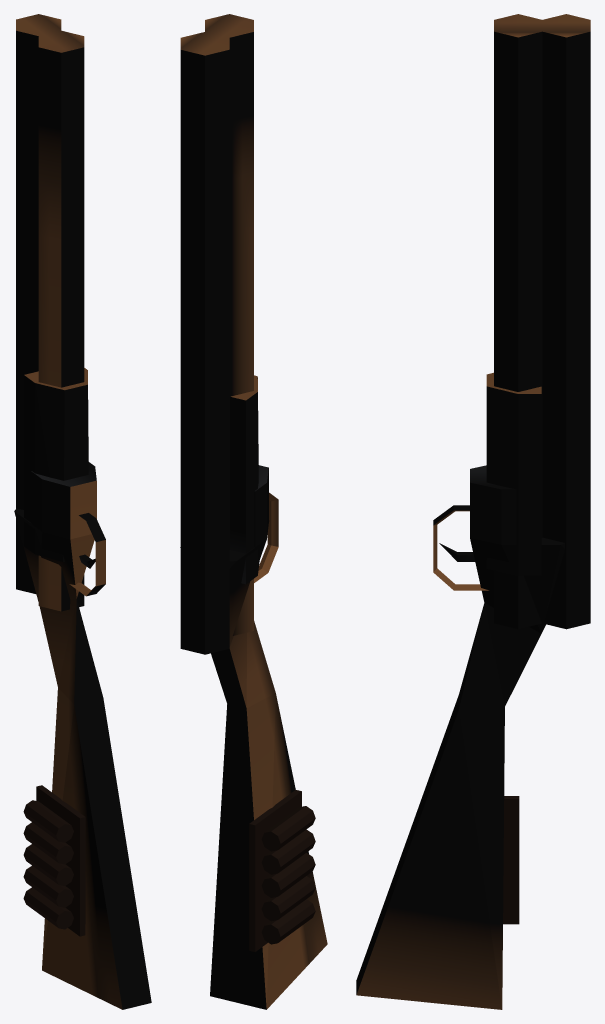
The model's file is HenryH001__ShellHolder_Butt.fbx.
3 renders of one model, left to right at view 1: azimuth 30°, elevation 25°; view 2: azimuth 150°, elevation 25°; view 3: azimuth 270°, elevation 25°, orthographic. The views are drawn at different scales.
Parts seen in each view (by area): view 1: asset_HenryH001.001; view 2: asset_HenryH001.001; view 3: asset_HenryH001.001.
Boxes of the visible parts, x1,y1,x2,y2 form: asset_HenryH001.001: (14,14,151,1009); asset_HenryH001.001: (180,14,327,1009); asset_HenryH001.001: (356,14,590,1009).
Size of the model in its own units: 0.0441 by 0.558 by 0.122.
